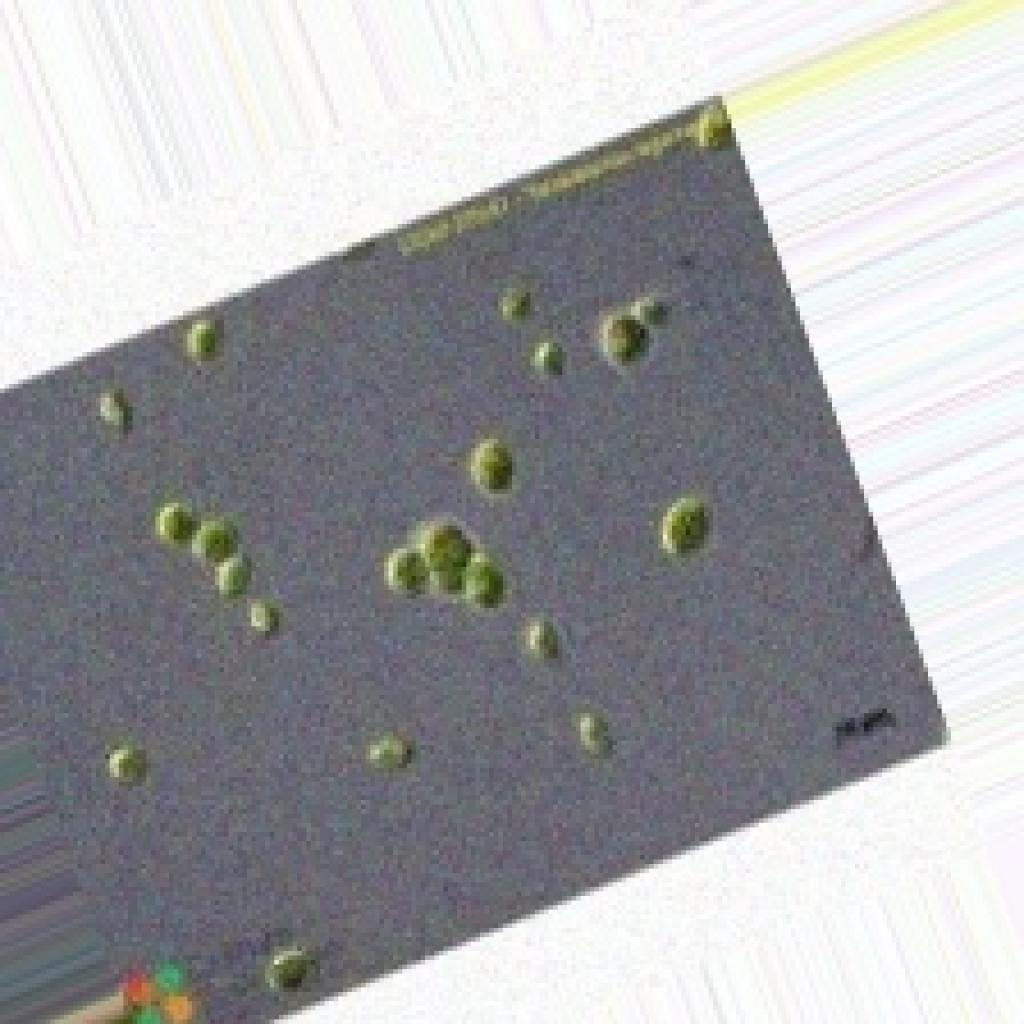Microalgae: (0, 87, 951, 1019)
